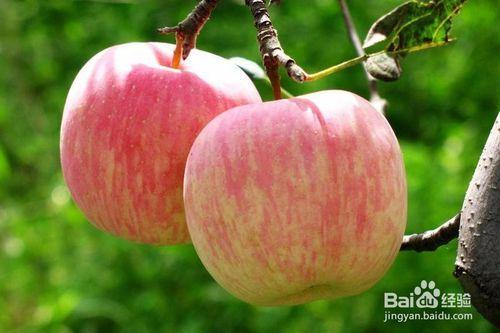apple: (186, 91, 410, 303), (62, 37, 264, 250)
